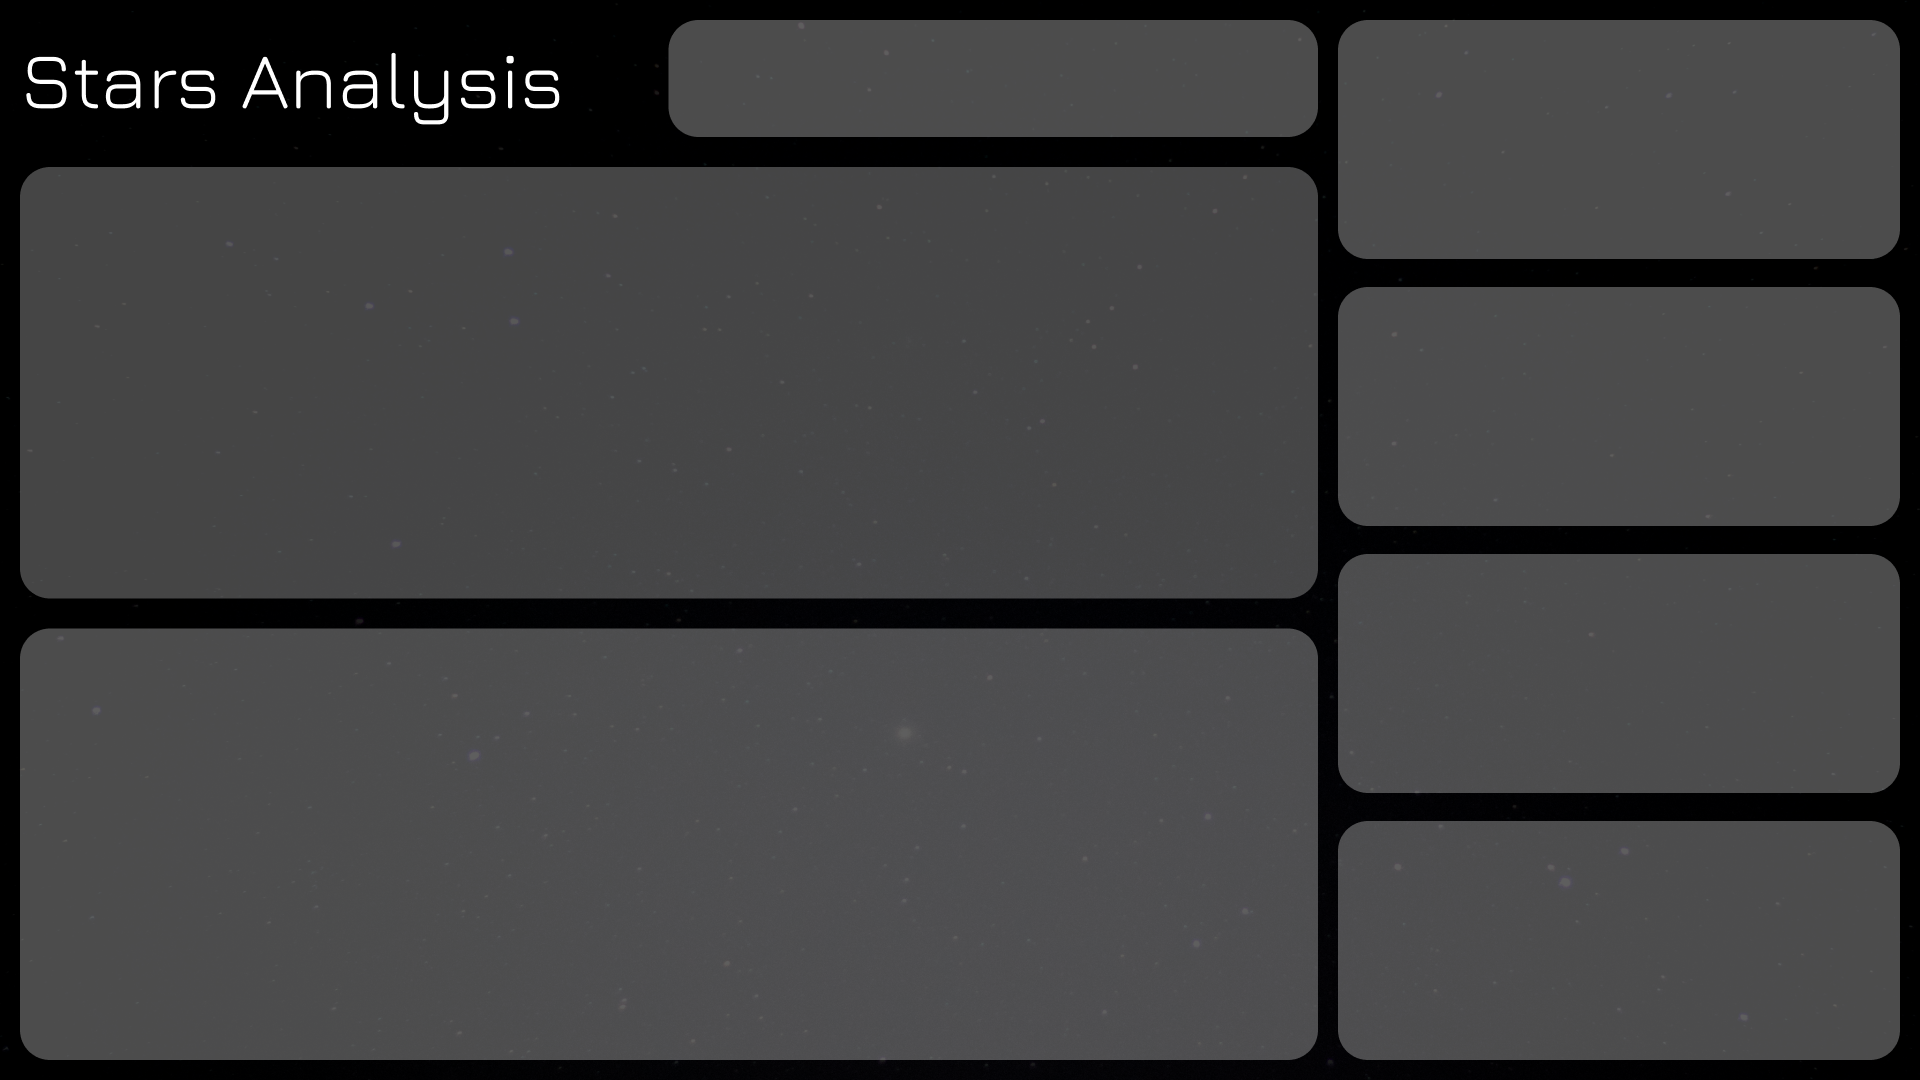

This screenshot's page, from the dashboard's own definition file:
{"tool":"powerbi","page":{"name":"Página 1","canvas":[1280,720],"ordinal":0},"visuals":[{"type":"card","fields":{"Values":["Median(stars_dashboard.Distance (ly))"]},"box":[918,561.2,326.6,123.5],"z":0},{"type":"card","fields":{"Values":["Median(stars_dashboard.Luminosity (L/Lo))"]},"box":[918,371.9,326.6,144.1],"z":1000},{"type":"card","fields":{"Values":["Median(stars_dashboard.Radius (R/Ro))"]},"box":[920.8,196.2,323.8,135.8],"z":2000},{"type":"areaChart","title":"Avarage of Temperature (K) by Spectral Class","fields":{"Category":["stars_dashboard.Spectral Class"],"Series":["stars_dashboard.Spectral Class Principal"],"Y":["Avg(stars_dashboard.Temperature (K))"]},"box":[27.4,432.2,824.7,258],"z":3000},{"type":"scatterChart","fields":{"Series":["stars_dashboard.Spectral Class Principal"],"X":["stars_dashboard.Distance (ly)"],"Size":["Avg(stars_dashboard.Radius (R/Ro))"],"Y":["stars_dashboard.Luminosity (L/Lo)"]},"box":[27.4,123.5,824.7,248.4],"z":4000},{"type":"slicer","fields":{"Values":["stars_dashboard.Spectral Class Principal"]},"box":[458.3,12.3,406.2,70],"z":5000},{"type":"card","fields":{"Values":["CountNonNull(stars_dashboard.Spectral Class Principal)"]},"box":[920.8,20.6,323.8,122.1],"z":6000}]}

Visuals, with their boxes in screenshot pixels (x1, y1, x2, y2), scaled from the page's 1280x720 canvas onto the 1920x1080 screenshot:
card - Median(stars_dashboard.Distance (ly)): 1377:842:1867:1027
card - Median(stars_dashboard.Luminosity (L/Lo)): 1377:558:1867:774
card - Median(stars_dashboard.Radius (R/Ro)): 1381:294:1867:498
"Avarage of Temperature (K) by Spectral Class" areaChart: 41:648:1278:1035
scatterChart - stars_dashboard.Spectral Class Principal x stars_dashboard.Distance (ly): 41:185:1278:558
slicer - stars_dashboard.Spectral Class Principal: 687:18:1297:123
card - CountNonNull(stars_dashboard.Spectral Class Principal): 1381:31:1867:214
